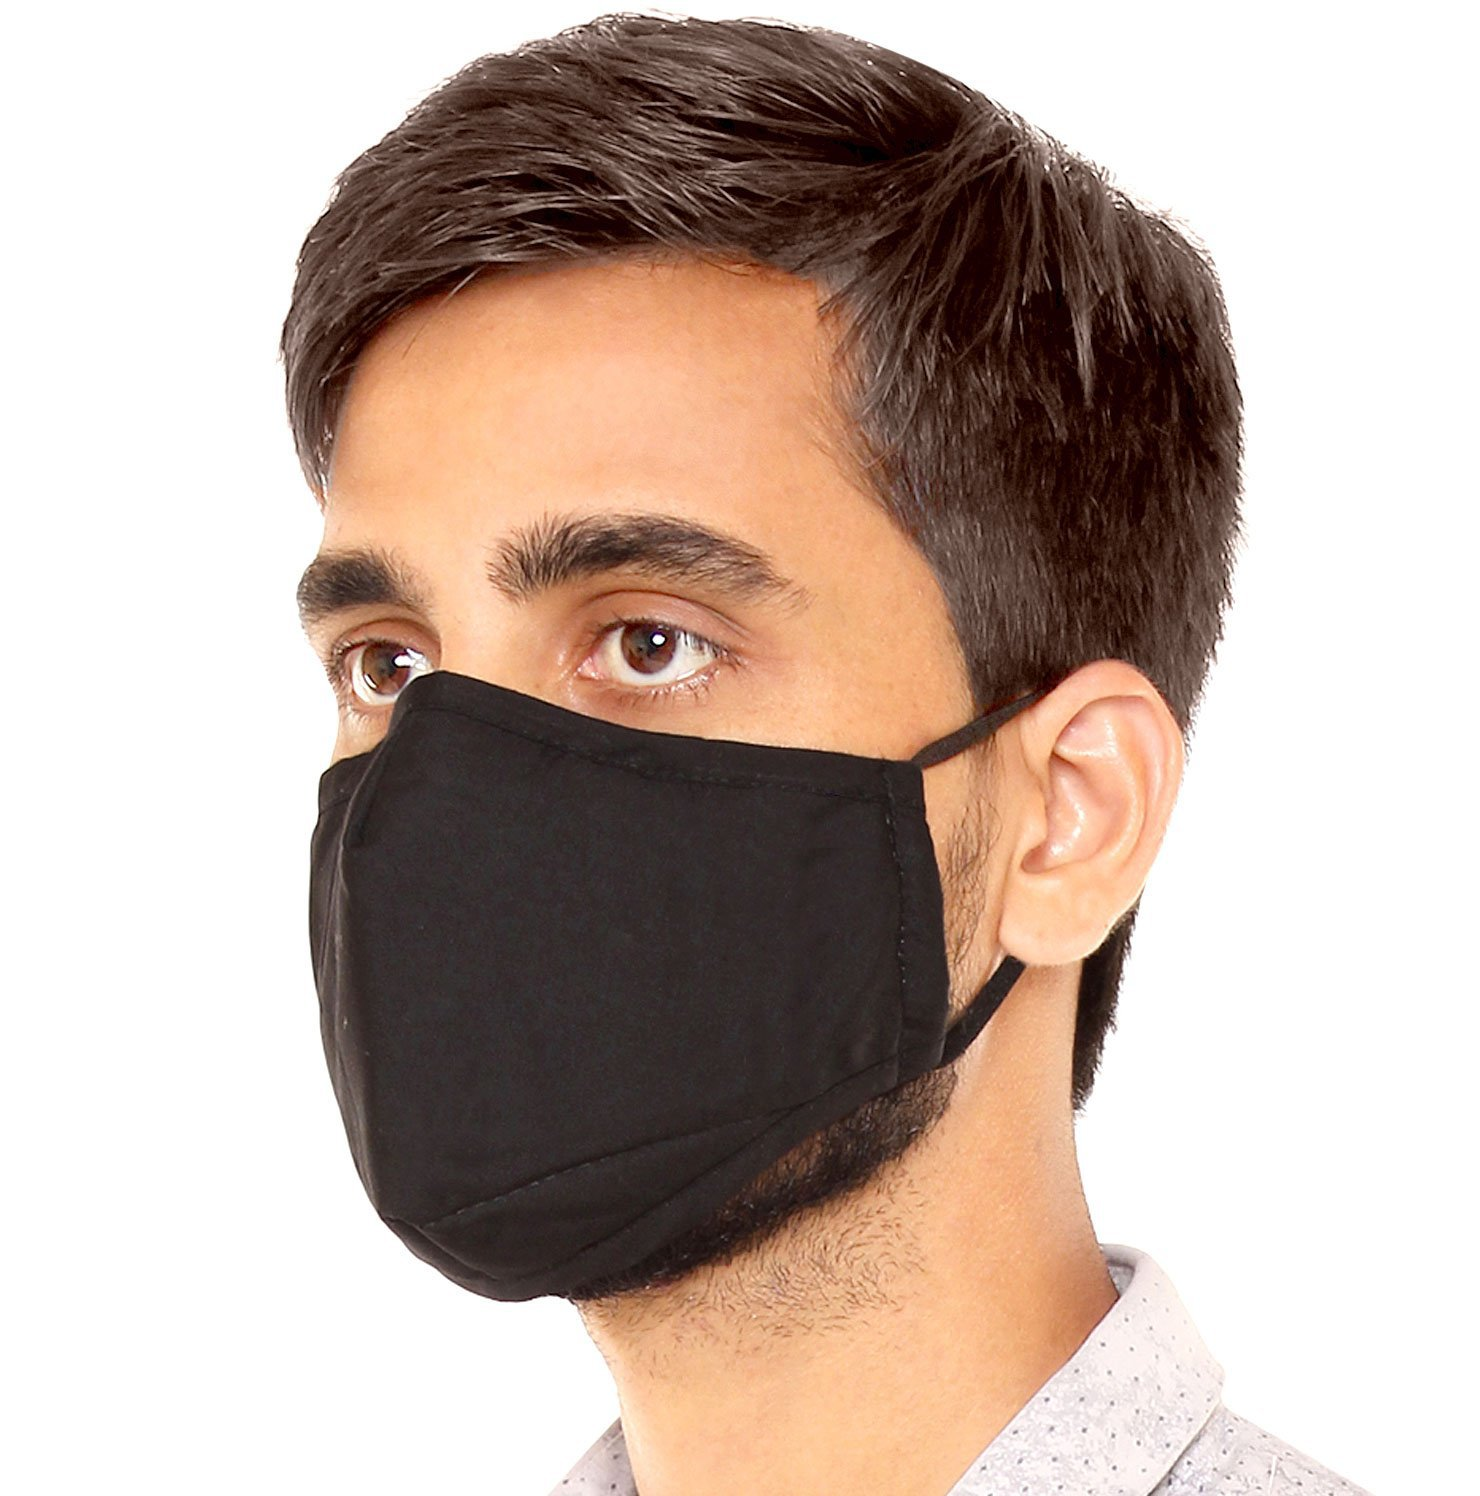mask: (263, 28, 1282, 1387)
